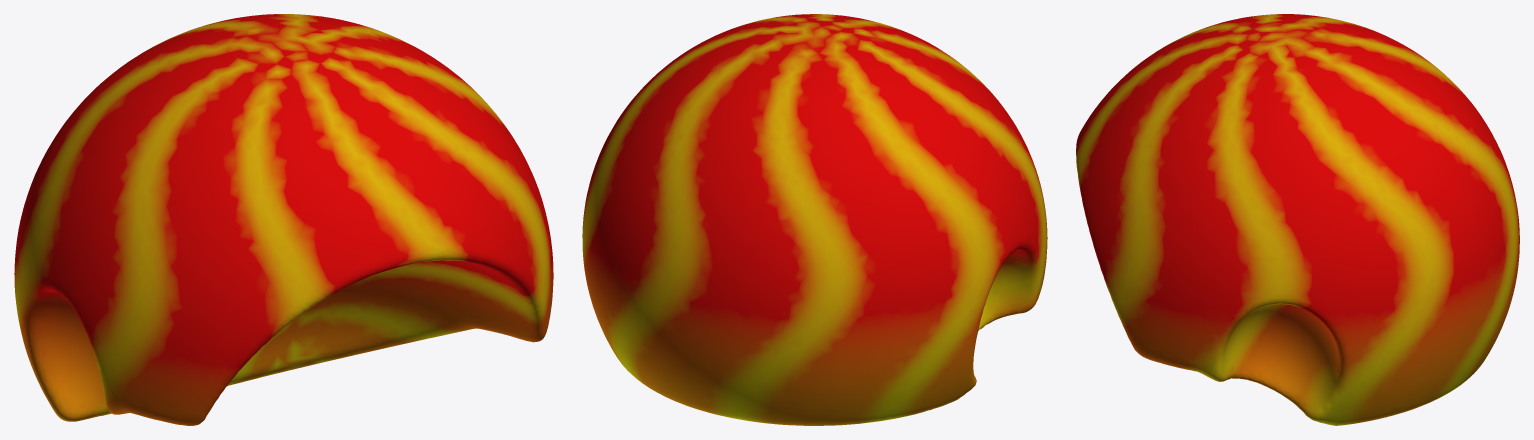
The model's file is buzz.glb.
3 views of the same model, side by side, from view 1: azimuth 30°, elevation 25°; view 2: azimuth 150°, elevation 25°; view 3: azimuth 270°, elevation 25° (orthographic). The views are drawn at different scales.
Parts seen in each view (by area): view 1: part; view 2: part; view 3: part.
Part boxes in pixels (bbox=[...]): part: bbox=[14, 14, 553, 425]; part: bbox=[582, 14, 1047, 425]; part: bbox=[1076, 14, 1519, 425].
Size of the model in its own units: 2.02 by 1.51 by 1.95.
